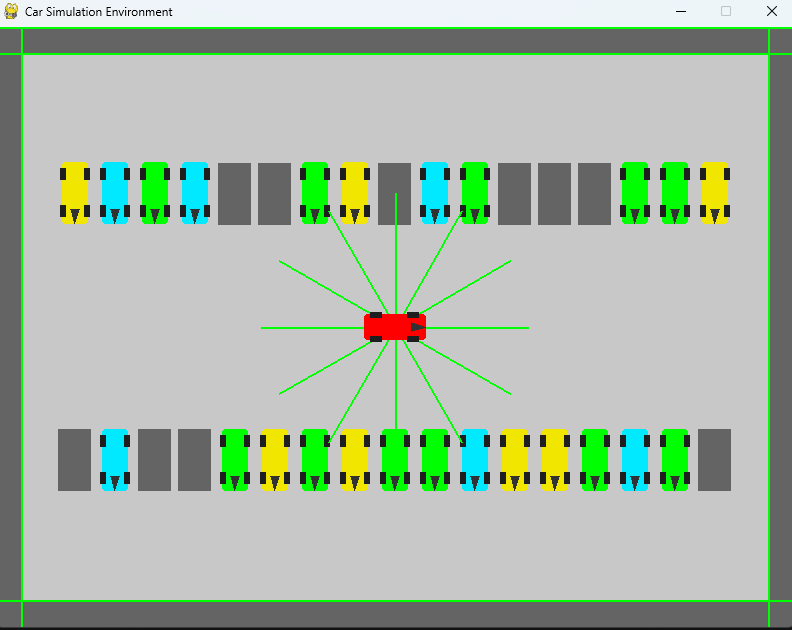ControlledCar: (354, 302, 433, 351)
ParkedCar: (134, 161, 177, 226), (614, 428, 655, 496), (617, 158, 655, 230), (54, 156, 92, 225), (294, 160, 334, 225), (416, 429, 453, 499), (415, 159, 454, 225), (535, 430, 574, 496), (296, 428, 331, 499), (96, 160, 132, 229), (256, 430, 294, 495), (698, 162, 734, 228), (457, 430, 495, 492), (378, 427, 412, 496), (455, 162, 491, 227), (338, 428, 372, 496), (177, 163, 212, 229), (499, 427, 532, 496), (219, 428, 252, 495), (657, 431, 692, 494), (576, 431, 611, 493), (659, 162, 692, 226), (336, 163, 370, 225), (98, 429, 130, 494)
ParkingSpot: (693, 426, 740, 502), (51, 422, 95, 496), (495, 157, 536, 234), (130, 424, 173, 496), (373, 157, 416, 228), (212, 157, 253, 228), (255, 162, 297, 228), (576, 156, 611, 230), (176, 424, 211, 498), (536, 159, 572, 228)
